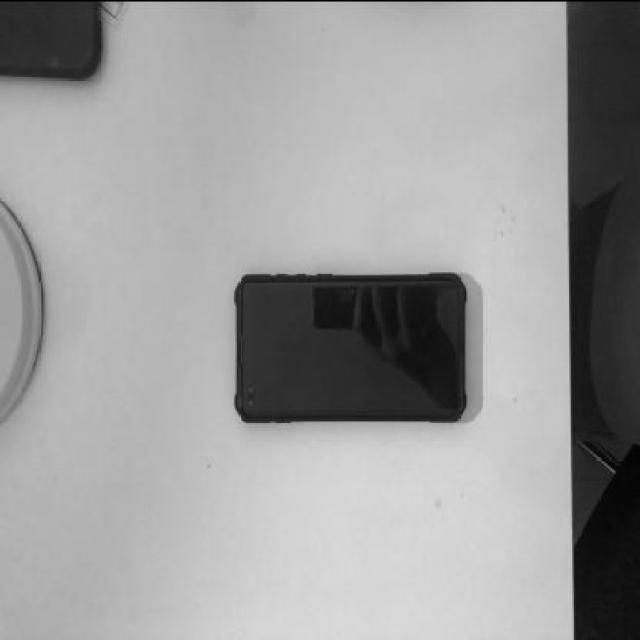fake: (234, 269, 460, 423)
